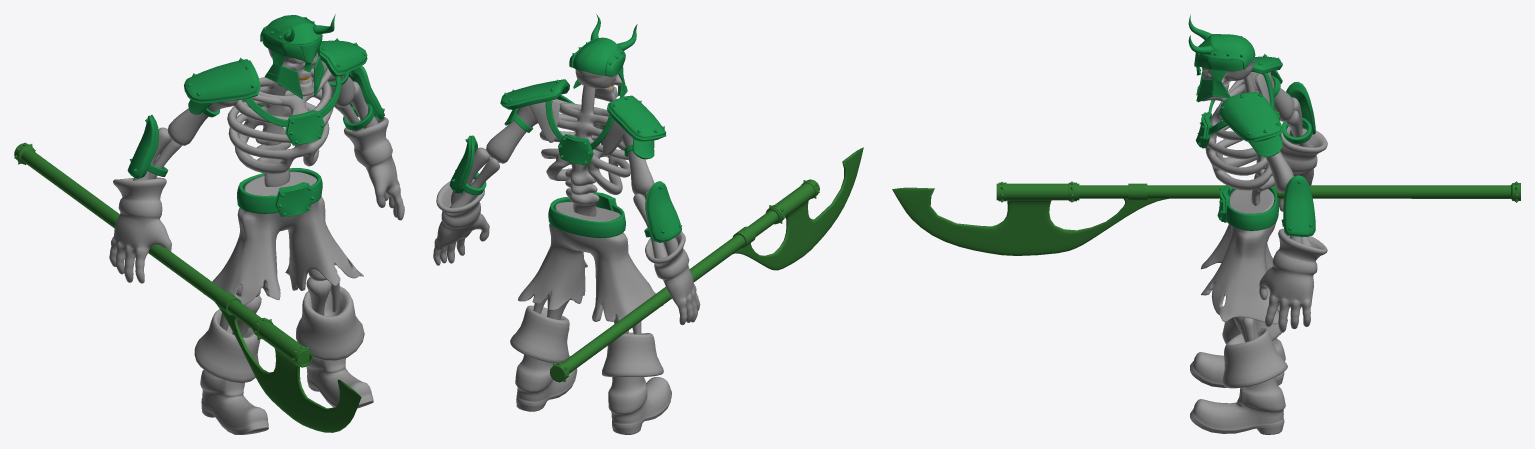
The model's file is Skeleton_Elite.fbx.
3 renders of one model, left to right at view 1: azimuth 30°, elevation 25°; view 2: azimuth 150°, elevation 25°; view 3: azimuth 270°, elevation 25°, orthographic. The views are drawn at different scales.
Parts seen in each view (by area): view 1: Skeleton_Body, Skeleton_Armor, Skeleton_Preview; view 2: Skeleton_Body, Skeleton_Armor, Skeleton_Preview; view 3: Skeleton_Body, Skeleton_Preview, Skeleton_Armor.
Part boxes in pixels (box(x1,y1,x2,y2)): Skeleton_Body: box(109, 48, 404, 434); Skeleton_Armor: box(127, 14, 384, 216); Skeleton_Preview: box(14, 142, 361, 432); Skeleton_Body: box(433, 69, 700, 434); Skeleton_Armor: box(449, 14, 682, 242); Skeleton_Preview: box(550, 147, 863, 382); Skeleton_Body: box(1190, 58, 1327, 434); Skeleton_Preview: box(892, 181, 1520, 255); Skeleton_Armor: box(1188, 14, 1315, 236).
Bounding box in the file's own units: 173 × 241 × 361.
